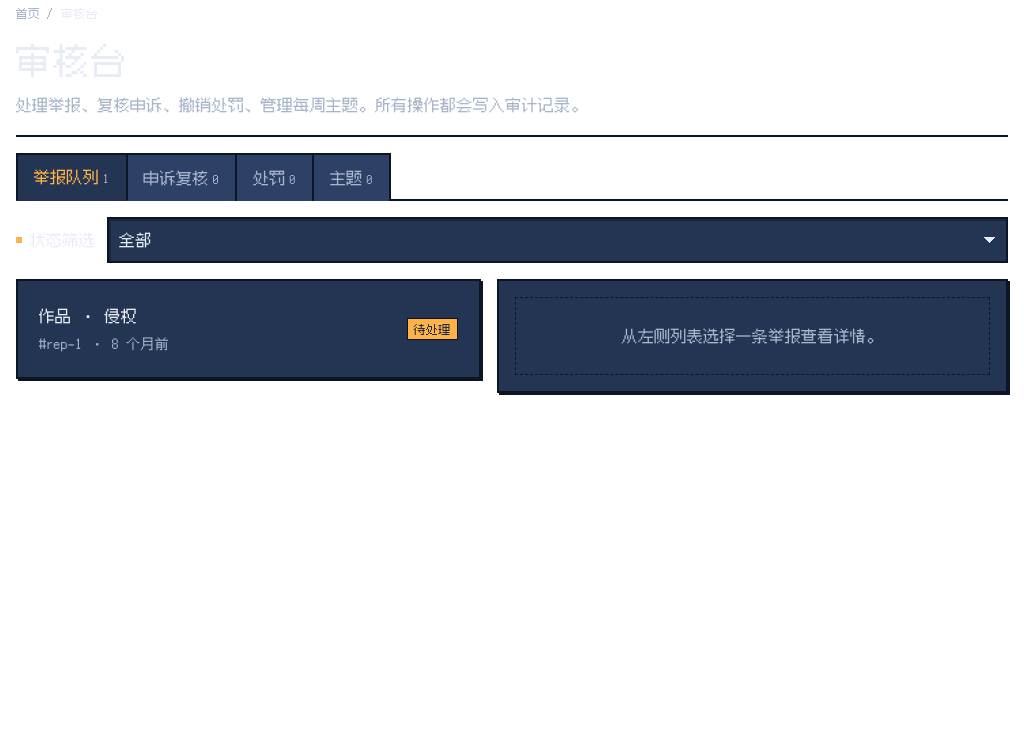
Test: 举报队列 › 被其他审核员认领后只读：提示可见，裁定被禁用
The image size is (1024, 735).
Click the button "作品 · 侵权 #rep-1 · 8 个月前 待处理" at x=55, y=315, box [26,289,471,369]
(page scrolled)
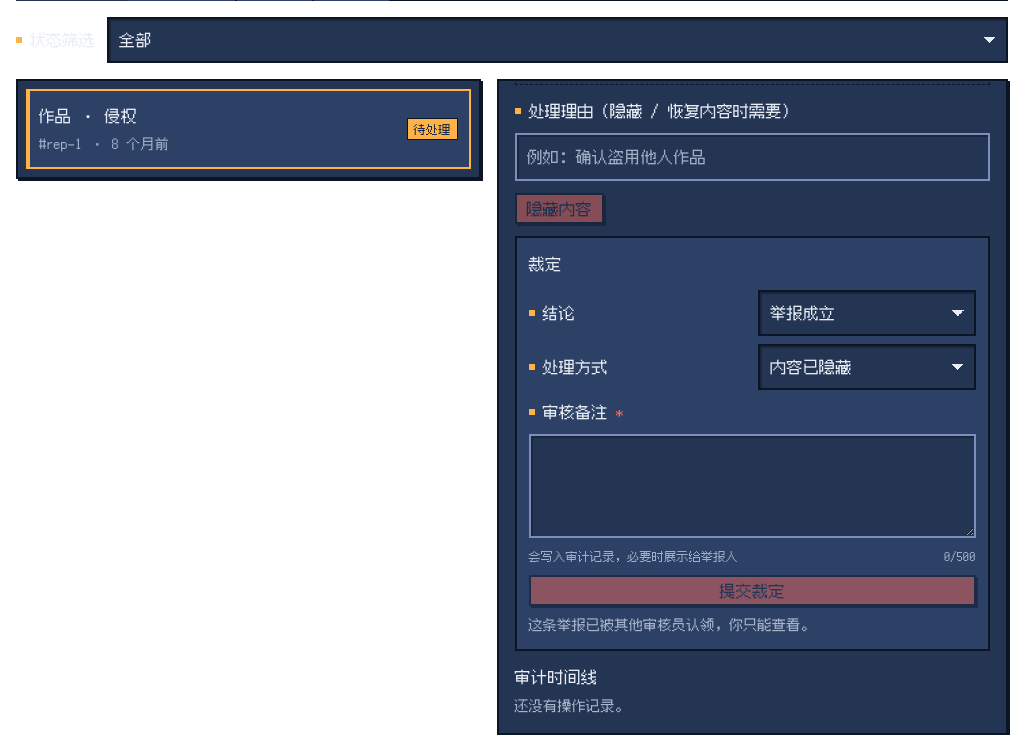
Expected: the message shows "你只能查看", [529,615,815,634]
Expected: the button "提交裁定" is disabled, [529,575,976,606]
